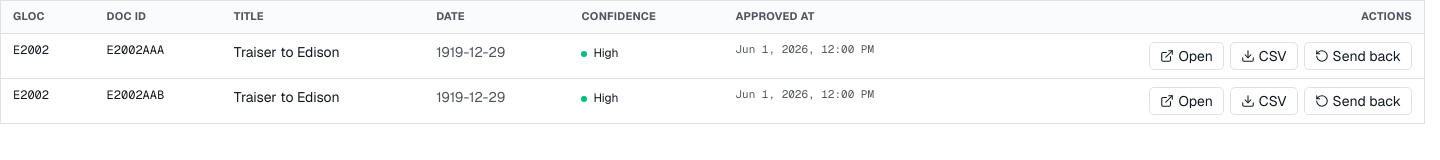
Test: PastVerificationsTable › optimistically removes a row when send-back succeeds
The width and height of the screenshot is (1440, 160).
Expected: the text "E2002AAA" is shown once, [95,33,222,78]
Click the button "Send back" in the row of "E2002AAA" at (1358, 56), box [1304,42,1412,70]
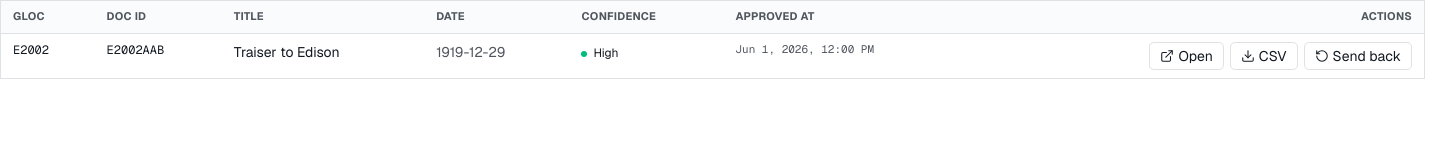
Expected: the text "E2002AAB" is shown, [95,33,222,78]
Expected: the text "E2002AAA" is gone
